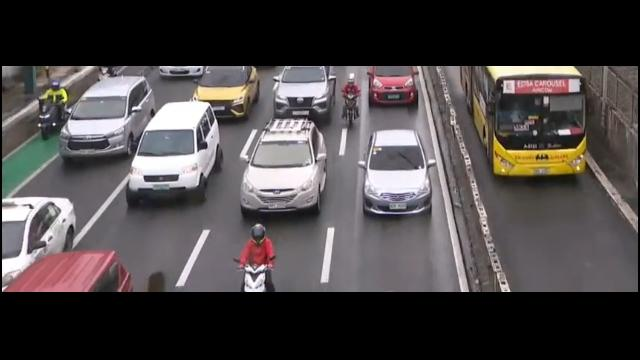bus: (459, 66, 590, 179)
car: (126, 102, 221, 208), (241, 119, 327, 217), (58, 76, 154, 161), (2, 196, 76, 292), (361, 129, 431, 219), (191, 67, 260, 118), (272, 66, 337, 119), (368, 66, 421, 104)
motorcycle: (234, 223, 276, 291), (35, 78, 66, 142), (340, 74, 362, 126)
